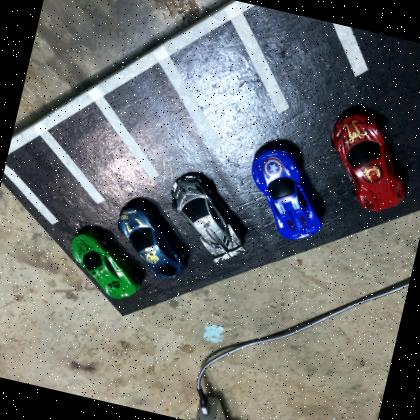Car: (317, 106, 420, 217), (236, 140, 338, 246), (158, 170, 258, 270), (107, 201, 196, 284), (60, 229, 148, 304)
